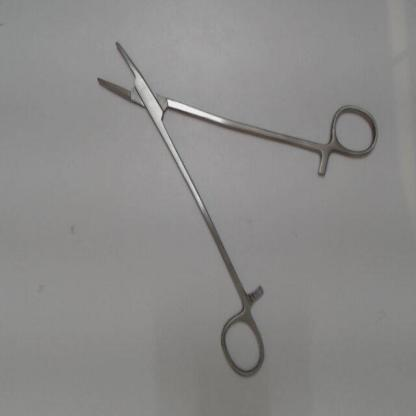8 Mayo Needle Holder: (78, 20, 387, 386)
